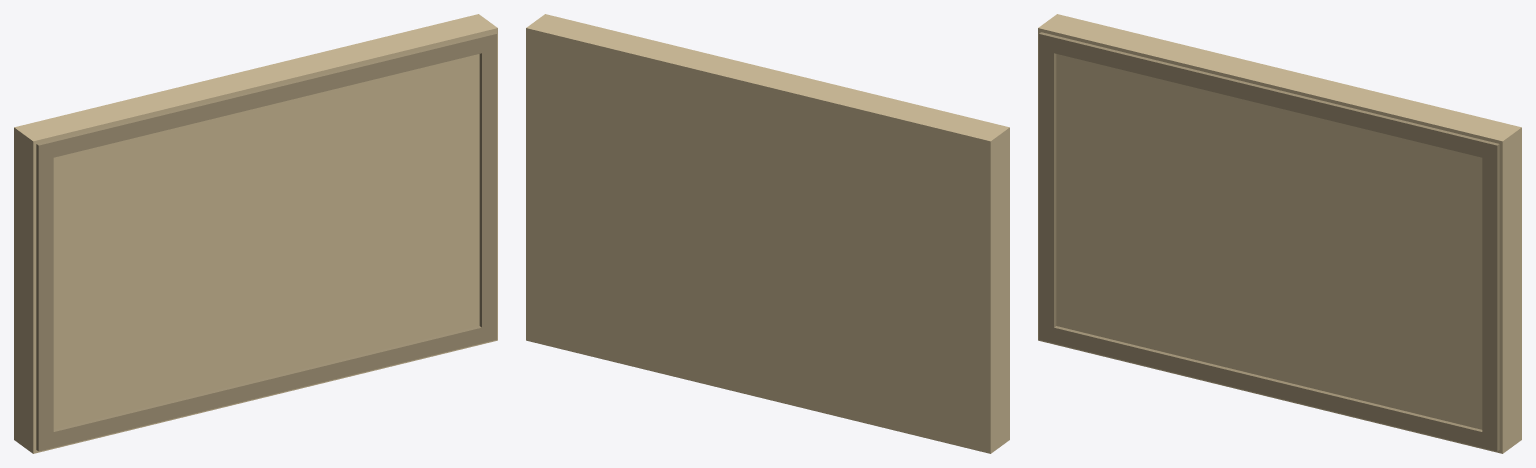
Rendered from sign_oak_wall.gltf.
3 views of the same model, side by side, from view 1: azimuth 30°, elevation 25°; view 2: azimuth 150°, elevation 25°; view 3: azimuth 330°, elevation 25° (orthographic).
Parts seen in each view (by area): view 1: sign_oak_wall; view 2: sign_oak_wall; view 3: sign_oak_wall.
Boxes of the visible parts, x1,y1,x2,y2 form: sign_oak_wall: (14,14,497,453); sign_oak_wall: (526,14,1009,453); sign_oak_wall: (1038,14,1521,453).
Bounding box in the file's own units: 0.875 × 0.5625 × 0.07.
